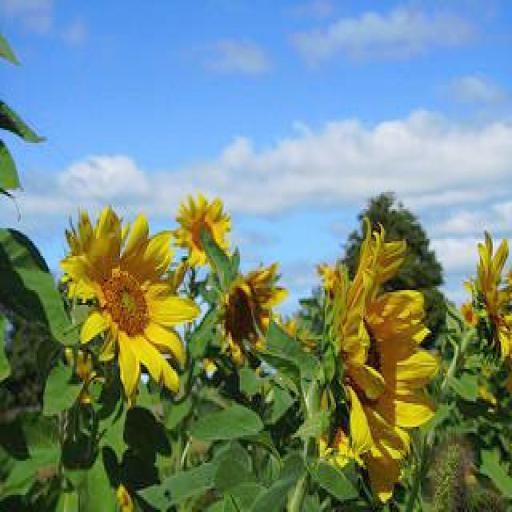sunflower: (315, 224, 442, 471), (64, 198, 198, 404), (470, 231, 512, 386), (221, 266, 288, 362), (176, 192, 235, 262)
